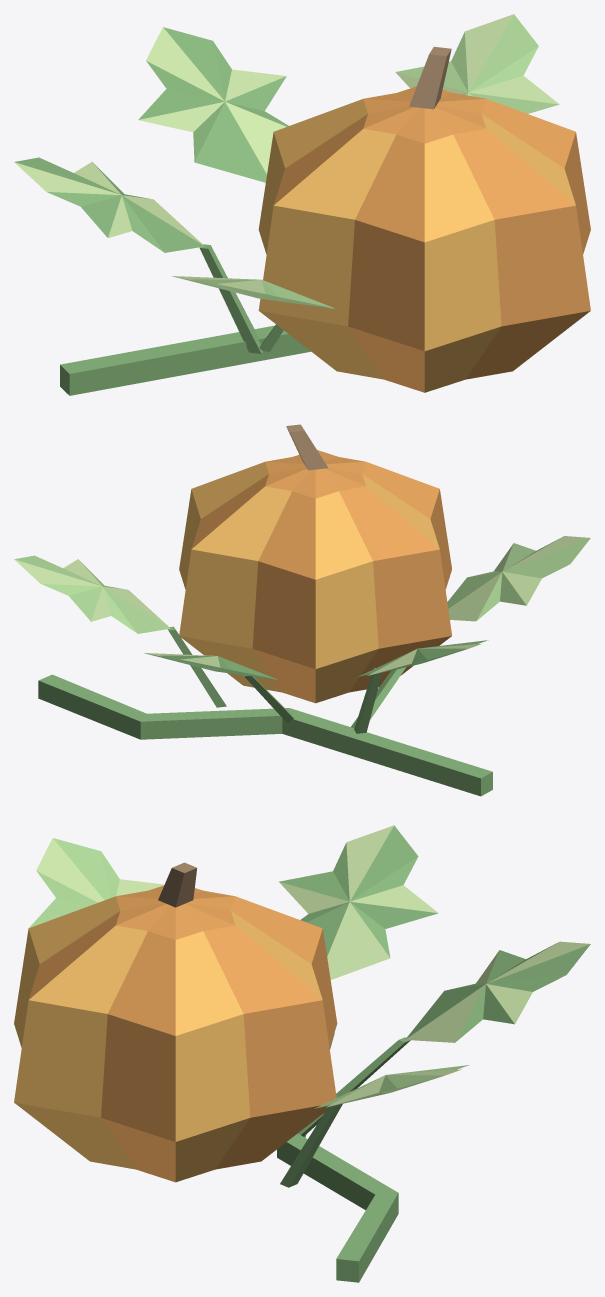
Rendered from crop_pumpkin_s3.glb.
The picture shows the model from 3 angles, top to bottom: view 1: azimuth 30°, elevation 25°; view 2: azimuth 150°, elevation 25°; view 3: azimuth 270°, elevation 25°; orthographic projection. The views are drawn at different scales.
Parts seen in each view (by area): view 1: crop_pumpkin_s3; view 2: crop_pumpkin_s3; view 3: crop_pumpkin_s3.
Part boxes in pixels (<box>): crop_pumpkin_s3: <box>14,14,590,395</box>; crop_pumpkin_s3: <box>14,424,590,796</box>; crop_pumpkin_s3: <box>14,825,590,1282</box>.
Bounding box in the file's own units: 0.6192 × 0.347 × 0.5872.
